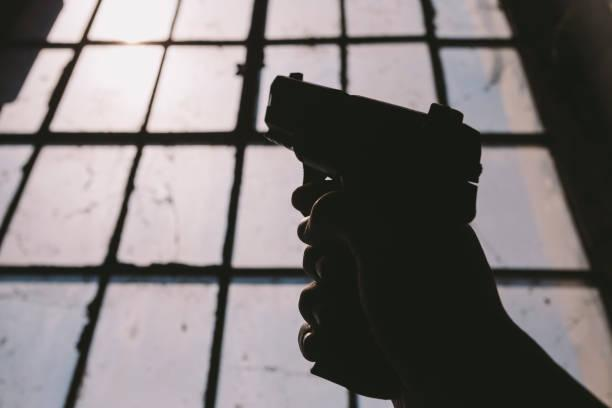weapon: (259, 69, 486, 392)
